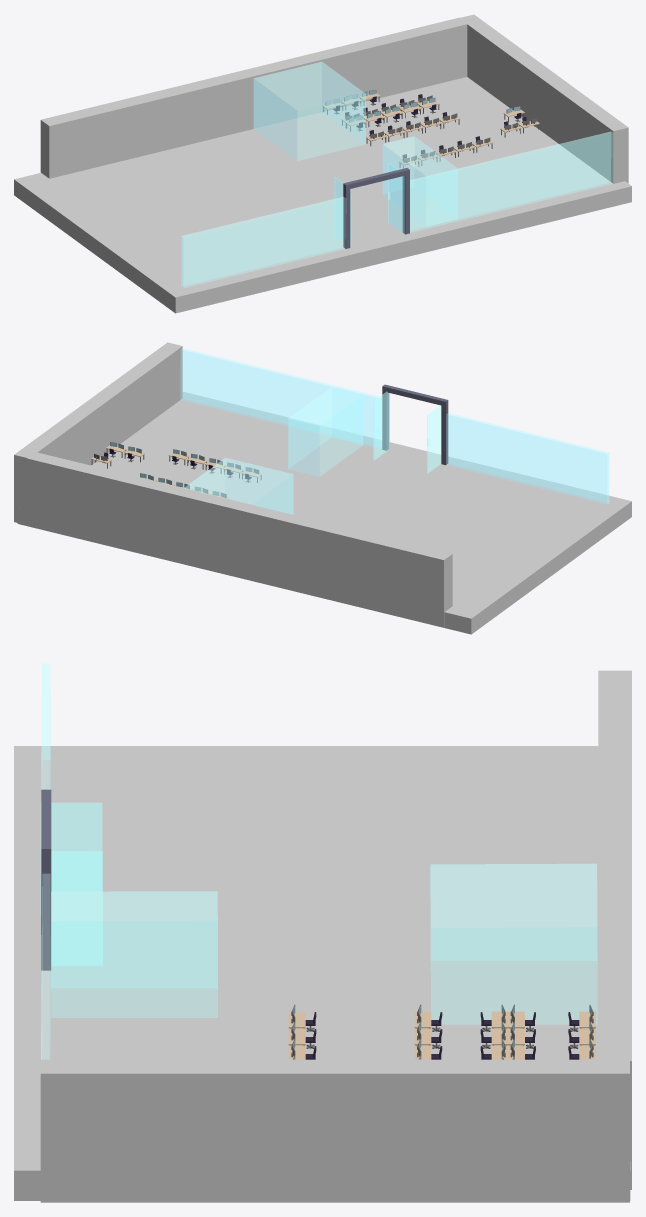
3 renders of one model, top to bottom at view 1: azimuth 30°, elevation 25°; view 2: azimuth 150°, elevation 25°; view 3: azimuth 270°, elevation 25°, orthographic. The views are drawn at different scales.
Visible parts, largest first — view 1: floor, wall_behind, wall_left, room1.001, room1.002, room2, room1, Main_Door_Frame, Door_Leaf_Left, Door_Leaf_Right; view 2: floor, wall_behind, room1.001, wall_left, room1.002, room1, room2, Main_Door_Frame, Door_Leaf_Left, Door_Leaf_Right; view 3: floor, wall_left, room2, room1, wall_behind, Door_Leaf_Left, Door_Leaf_Right, Main_Door_Frame, room1.001, room1.002.
Boxes of the visible parts, left/top/right/bottom form: floor: left=14, top=77, right=631, bottom=313; wall_behind: left=40, top=17, right=468, bottom=178; wall_left: left=460, top=14, right=628, bottom=183; room1.001: left=410, top=131, right=612, bottom=232; room1.002: left=181, top=197, right=345, bottom=287; room2: left=253, top=61, right=365, bottom=160; room1: left=382, top=136, right=457, bottom=218; Main_Door_Frame: left=343, top=168, right=409, bottom=248; Door_Leaf_Left: left=388, top=163, right=404, bottom=233; Door_Leaf_Right: left=334, top=177, right=351, bottom=247; floor: left=17, top=392, right=631, bottom=634; wall_behind: left=27, top=452, right=452, bottom=627; room1.001: left=180, top=348, right=381, bottom=447; wall_left: left=14, top=342, right=182, bottom=522; room1.002: left=446, top=413, right=609, bottom=503; room1: left=288, top=387, right=363, bottom=476; room2: left=184, top=458, right=293, bottom=514; Main_Door_Frame: left=382, top=384, right=448, bottom=465; Door_Leaf_Left: left=373, top=391, right=389, bottom=460; Door_Leaf_Right: left=427, top=405, right=441, bottom=473; floor: left=14, top=746, right=630, bottom=1200; wall_left: left=40, top=1059, right=629, bottom=1202; room2: left=430, top=863, right=597, bottom=1024; room1: left=51, top=891, right=217, bottom=1017; wall_behind: left=598, top=670, right=631, bottom=1189; Door_Leaf_Left: left=51, top=851, right=102, bottom=965; Door_Leaf_Right: left=40, top=802, right=102, bottom=914; Main_Door_Frame: left=41, top=789, right=51, bottom=970; room1.001: left=41, top=874, right=50, bottom=1059; room1.002: left=41, top=663, right=50, bottom=801.
Size of the model in its own units: 60.41 by 10 by 36.84.
